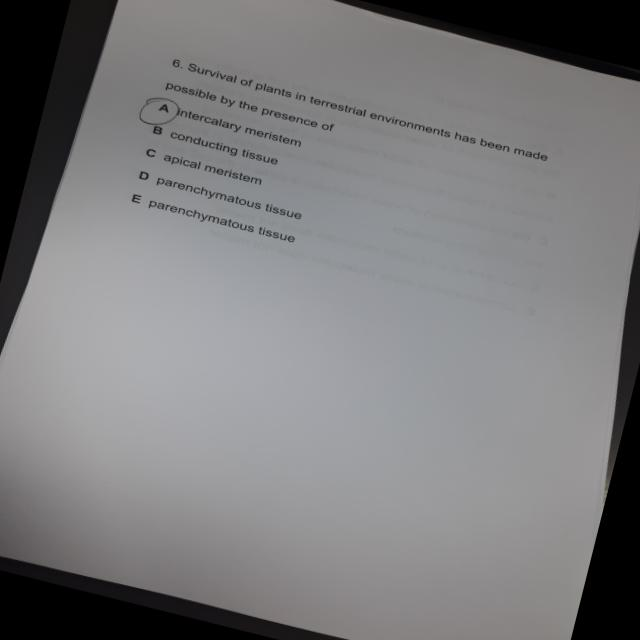A: (136, 90, 186, 133)
